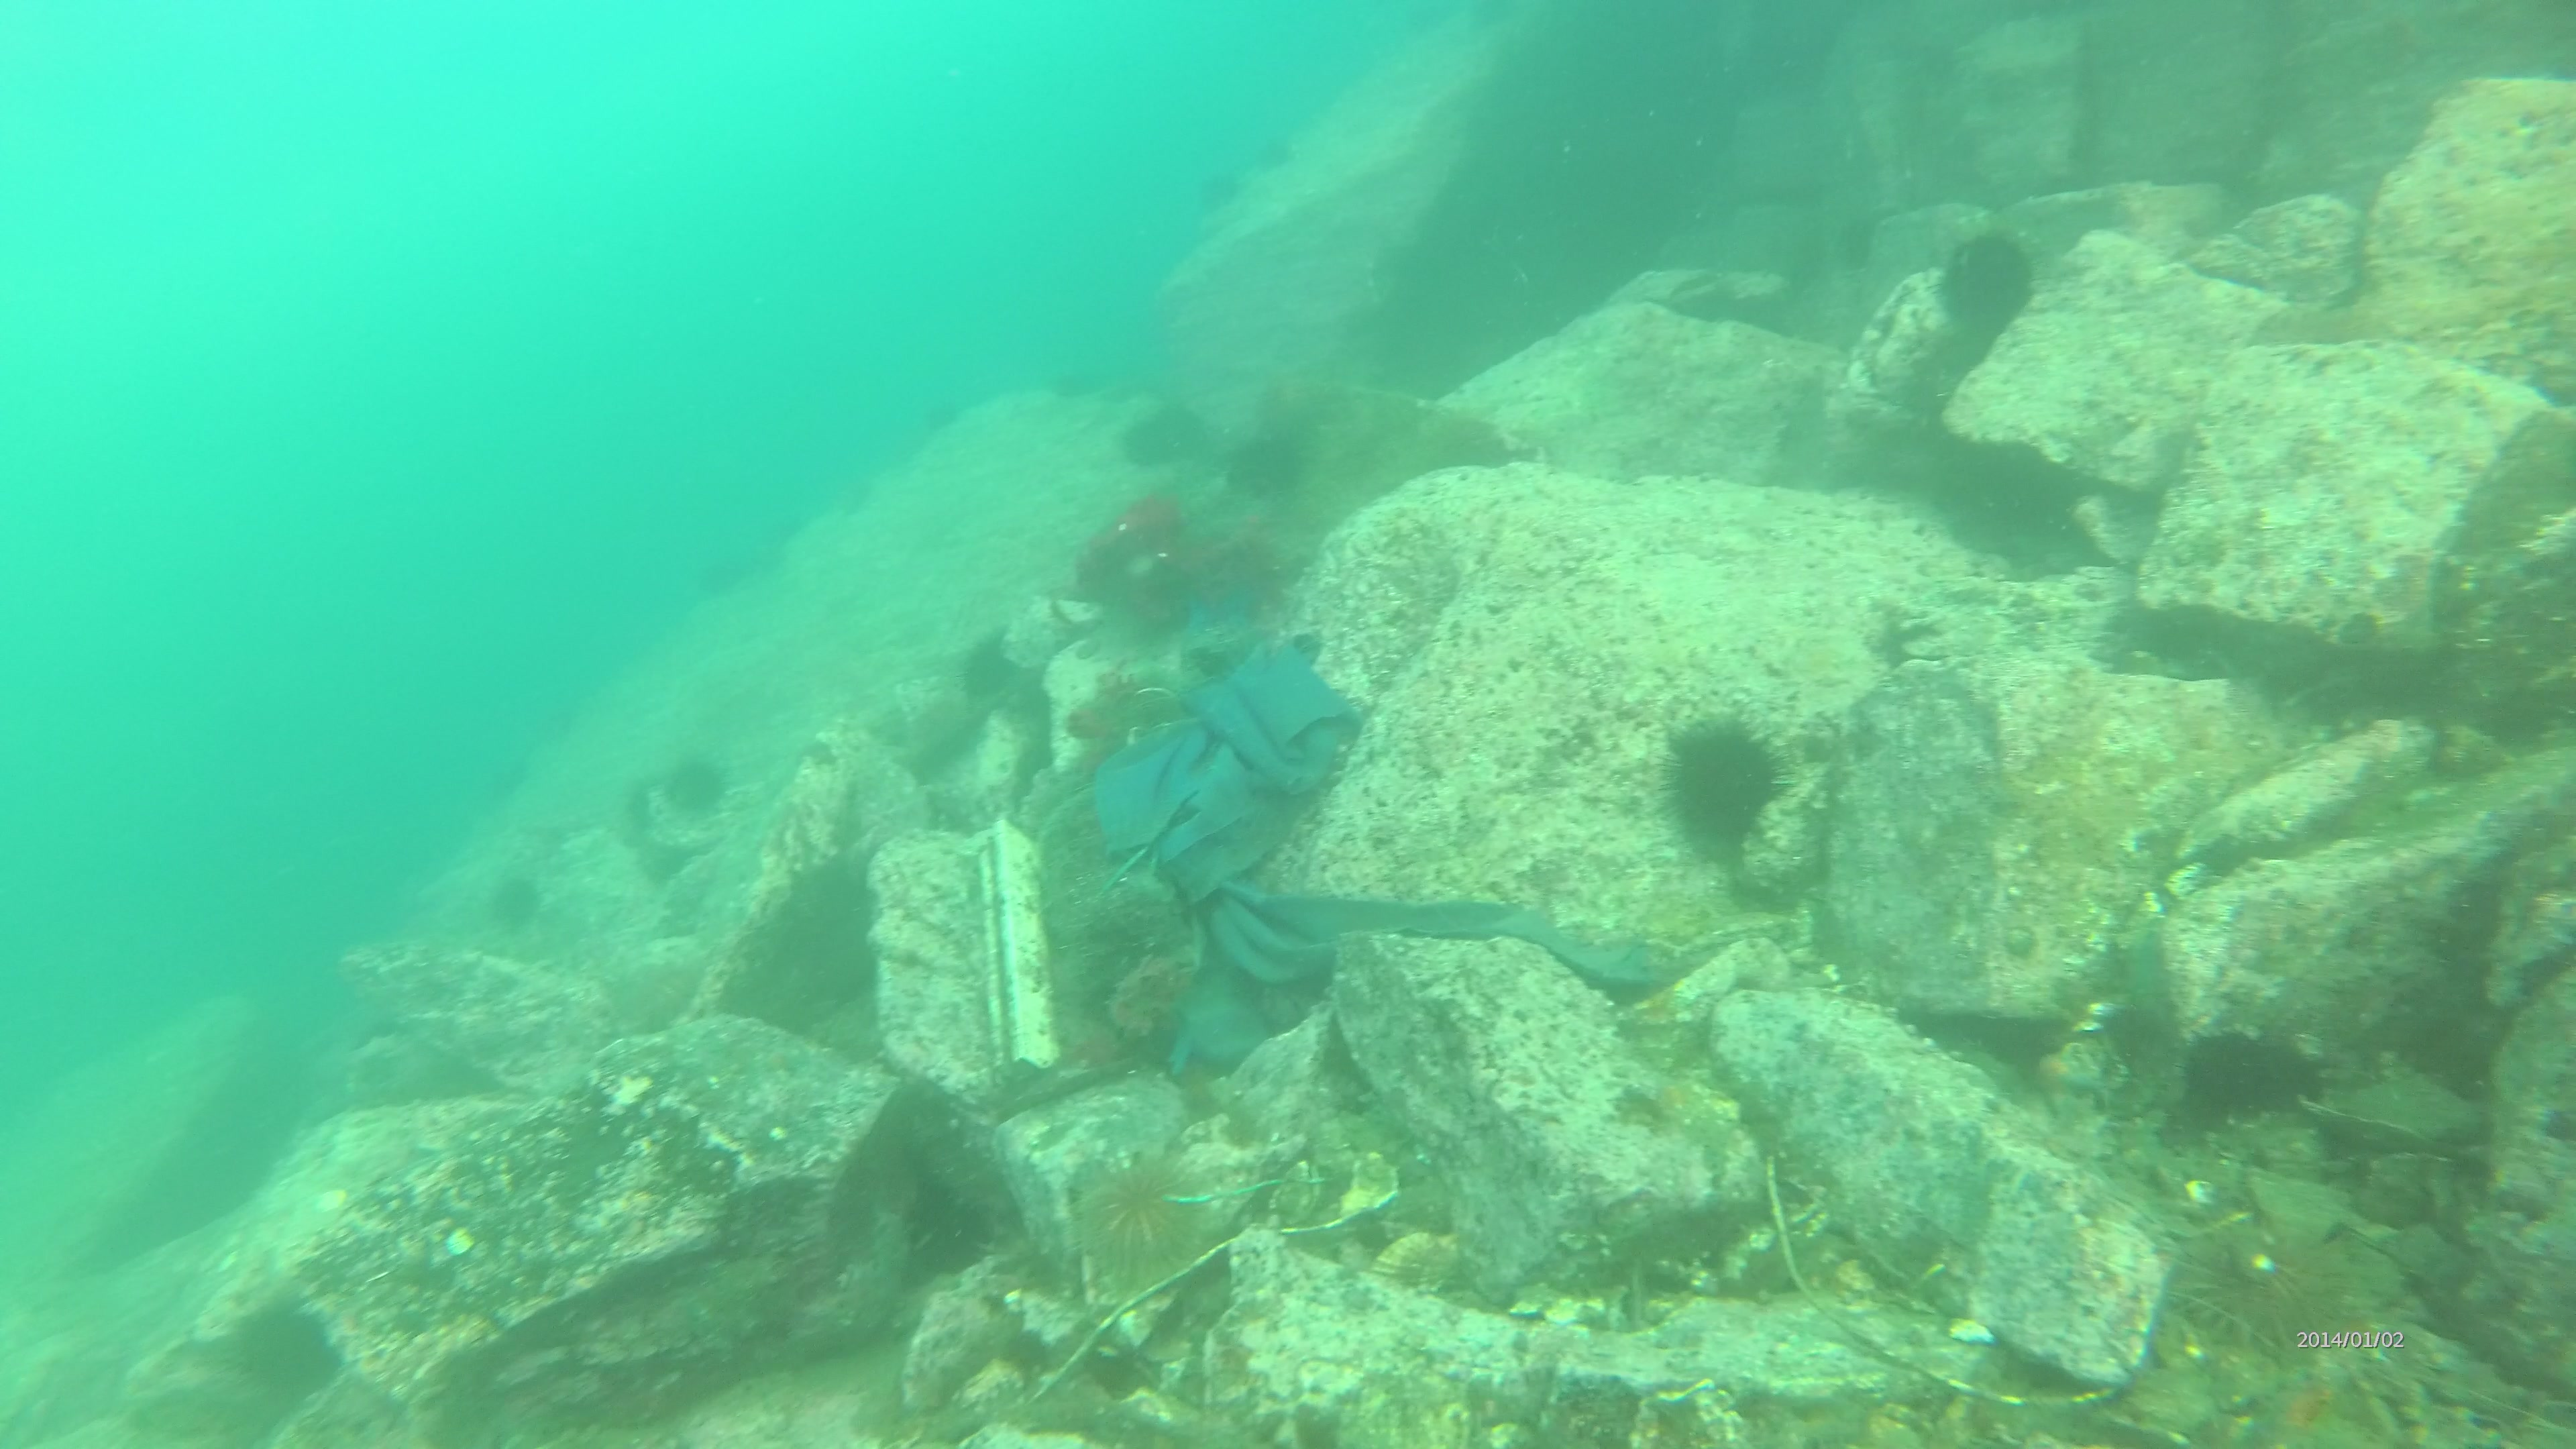echinus: (2181, 1215, 2381, 1355), (1660, 708, 1796, 853), (1077, 1152, 1200, 1277), (1927, 218, 2042, 341), (2181, 1030, 2291, 1136), (1224, 430, 1300, 511), (1127, 414, 1201, 469), (662, 754, 720, 819)
